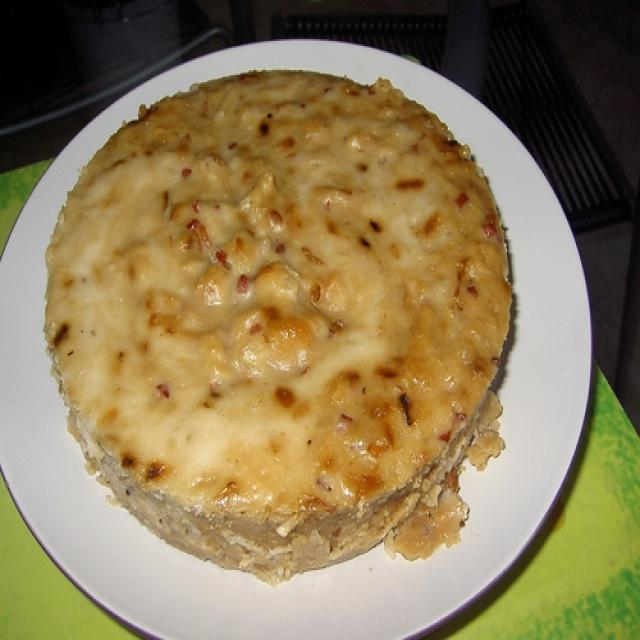蛋糕甜品: (5, 34, 599, 633)
